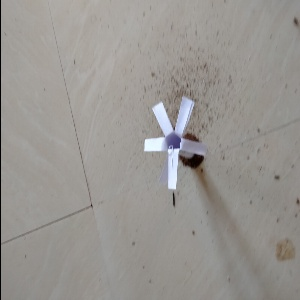weed: (142, 101, 211, 183)
